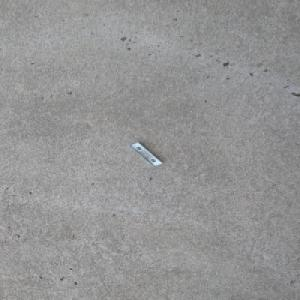ClampPart: (128, 141, 163, 166)
